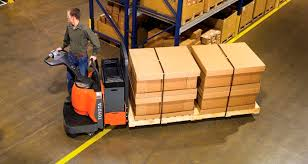Pallet Jack: (43, 48, 227, 138)
